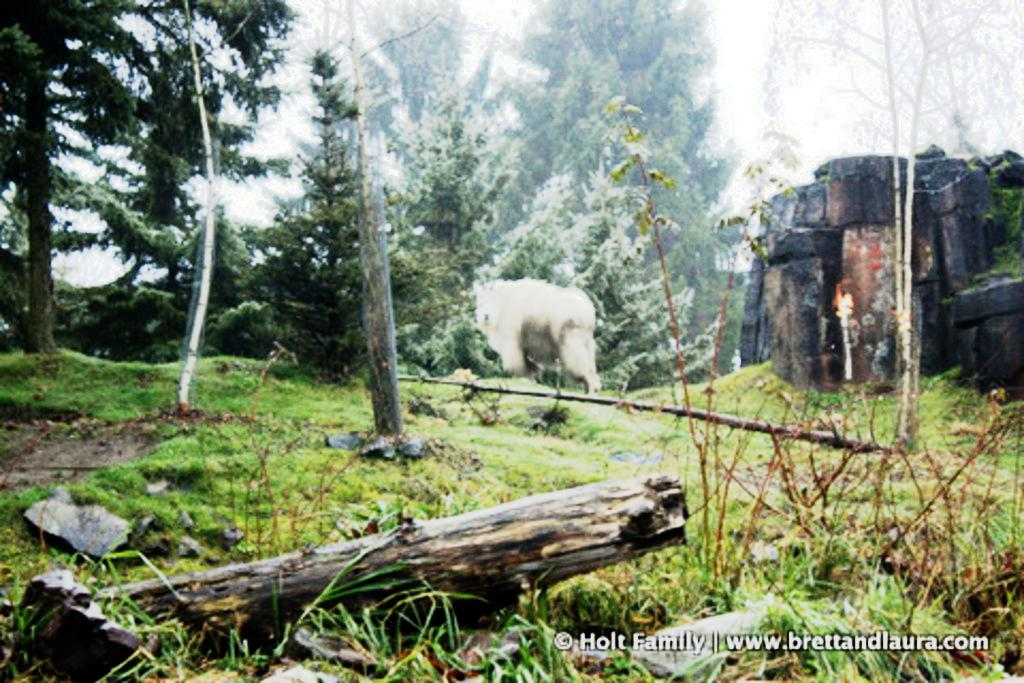Sheep: (474, 280, 598, 394)
